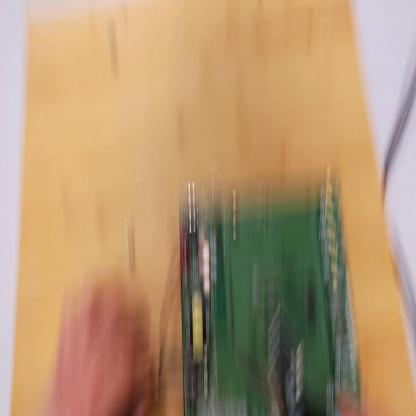hand: (53, 273, 155, 416), (337, 390, 360, 412)
low voltage board: (160, 164, 364, 415)
welder probe tip: (228, 345, 390, 415)
working area: (13, 6, 416, 415)
